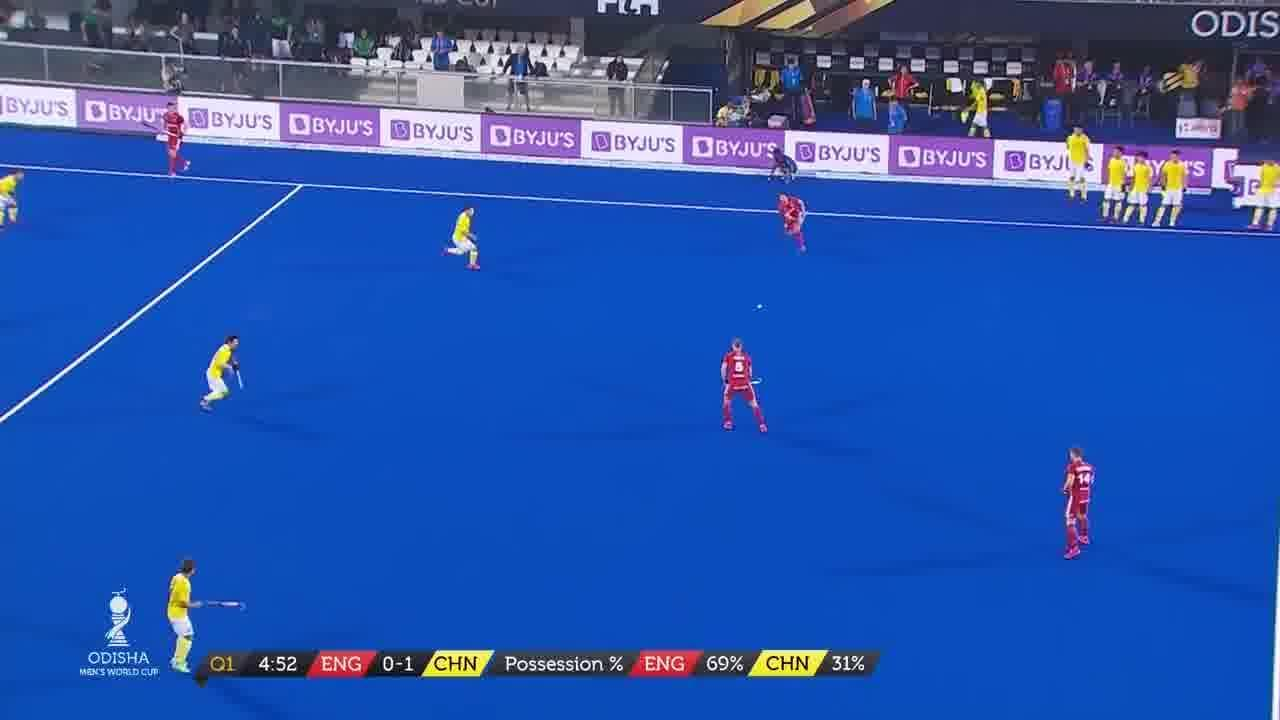ball: (756, 301, 764, 313)
